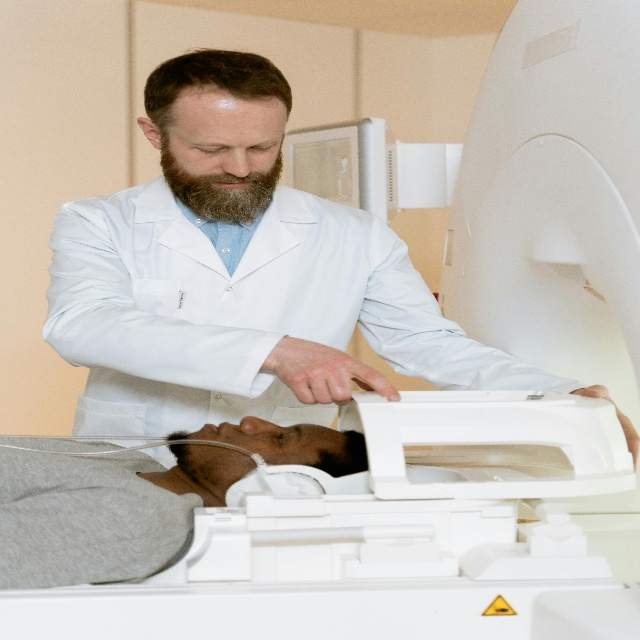Sin_guantes: (272, 333, 401, 405), (582, 381, 640, 469)
